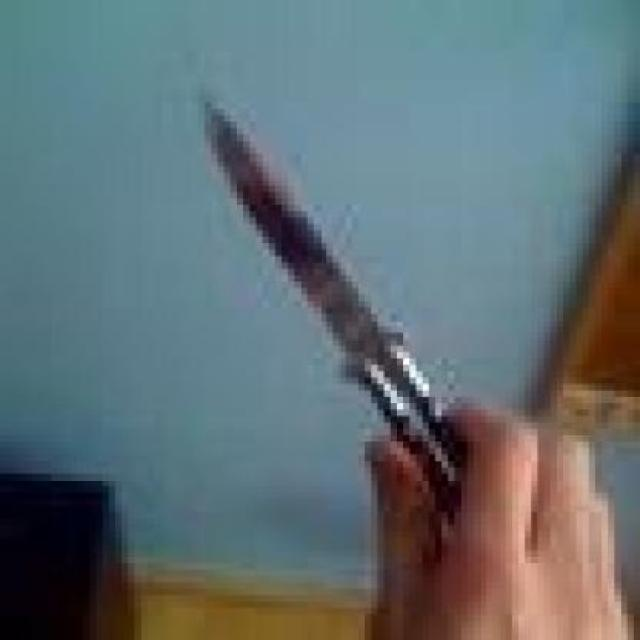knife: (205, 108, 460, 520)
